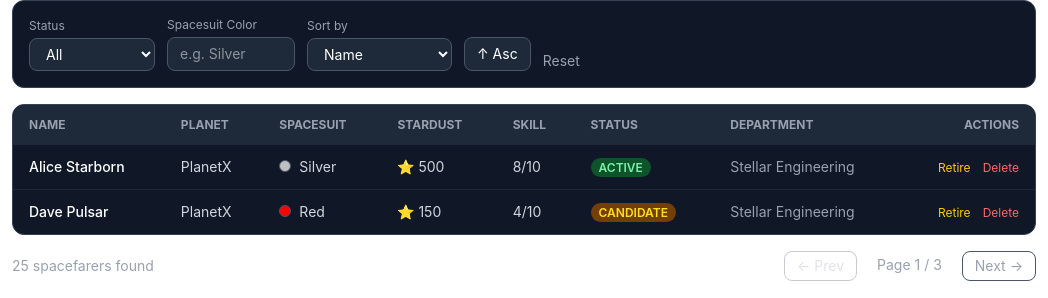
Test case: SpacefarerList › enables Next button and fetches page 2 when total > pageSize
The width and height of the screenshot is (1048, 298).
Expected: the text "Next →" is enabled
Step 1. Click the button "Next →" → [999, 266], box [962,251,1036,281]
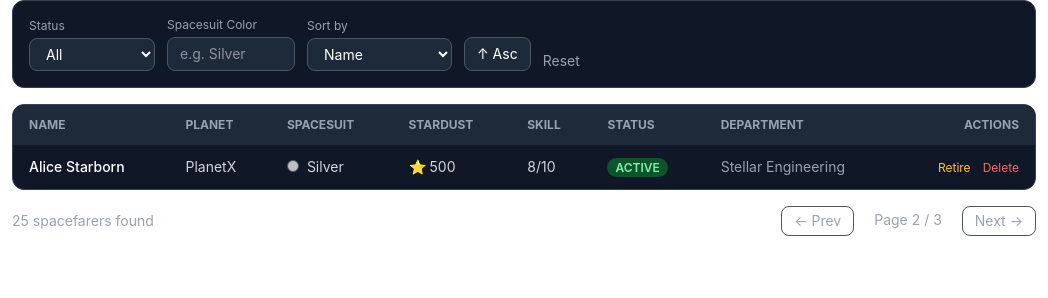
Expected: the text "Page 2" is shown, [874,211,942,228]
